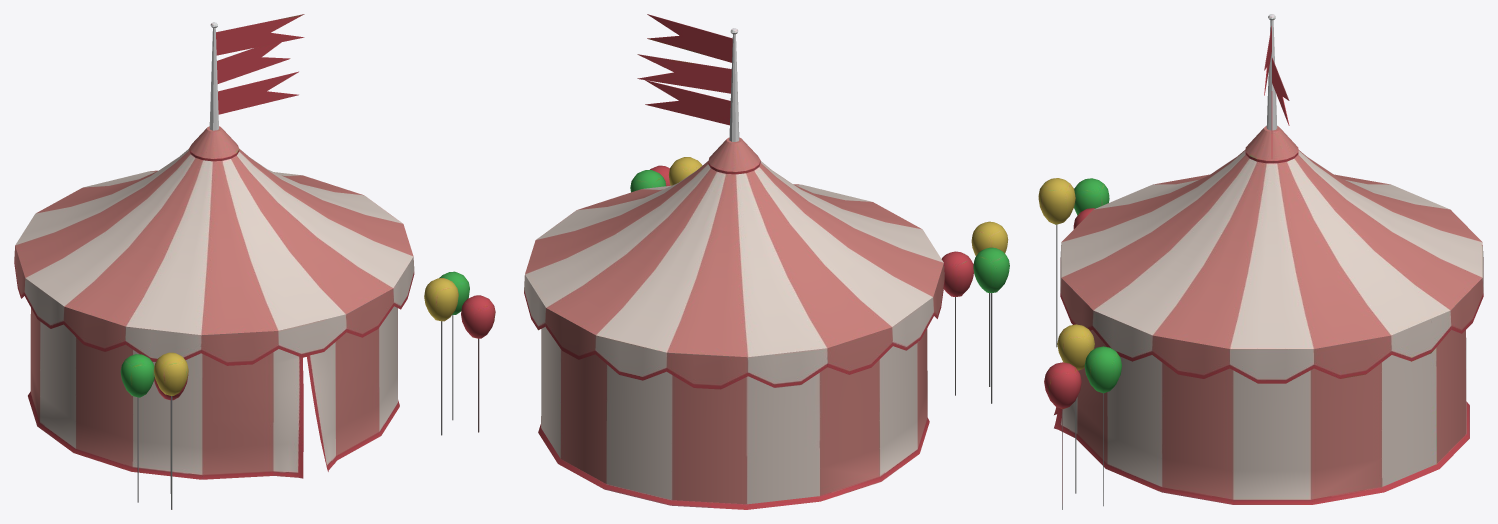
File: BUILDING_NormalHumor_3.fbx
3 renders of one model, left to right at view 1: azimuth 30°, elevation 25°; view 2: azimuth 150°, elevation 25°; view 3: azimuth 270°, elevation 25°, orthographic. The views are drawn at different scales.
Parts seen in each view (by area): view 1: BUILDING_NormalHumor_3_Baked; view 2: BUILDING_NormalHumor_3_Baked; view 3: BUILDING_NormalHumor_3_Baked.
Part boxes in pixels (x1,y1,x2,y2): BUILDING_NormalHumor_3_Baked: [14, 14, 495, 509]; BUILDING_NormalHumor_3_Baked: [524, 14, 1009, 509]; BUILDING_NormalHumor_3_Baked: [1038, 14, 1483, 509].
Bounding box in the file's own units: 193 × 195 × 193.
1 material, 1 textured.
